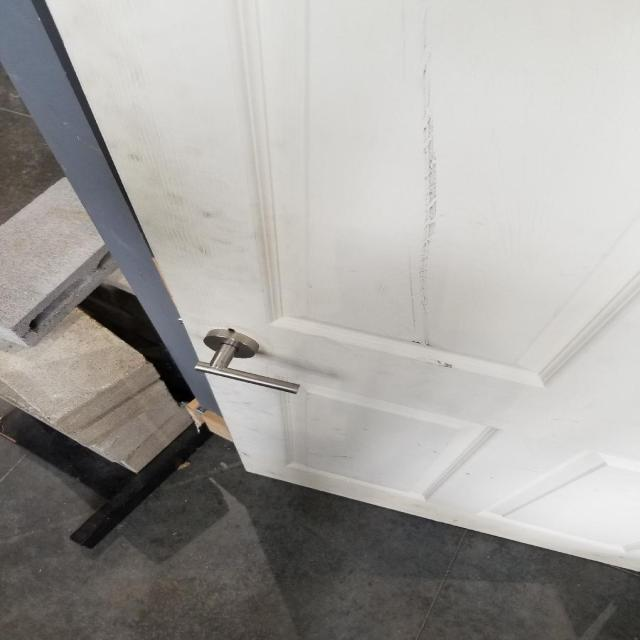door: (189, 326, 302, 396)
